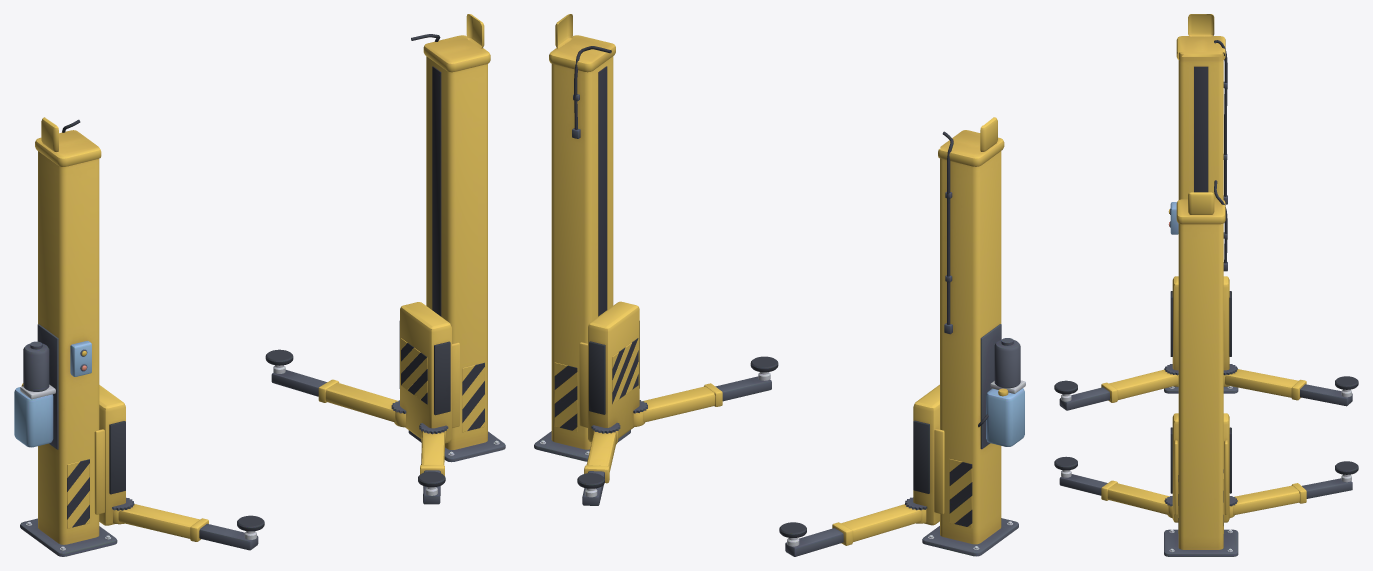
File: car-lift.glb
The picture shows the model from 3 angles, left to right: view 1: azimuth 30°, elevation 25°; view 2: azimuth 150°, elevation 25°; view 3: azimuth 270°, elevation 25°; orthographic projection. The views are drawn at different scales.
Parts seen in each view (by area): view 1: car-lift_body, car-lift_carriage; view 2: car-lift_body, car-lift_carriage; view 3: car-lift_body, car-lift_carriage.
Boxes of the visible parts, x1,y1,x2,y2 form: car-lift_body: (14, 14, 505, 556); car-lift_carriage: (94, 302, 459, 550); car-lift_body: (534, 14, 1025, 556); car-lift_carriage: (577, 301, 944, 556); car-lift_body: (1164, 14, 1238, 556); car-lift_carriage: (1054, 276, 1358, 522).
Bounding box in the file's own units: 3.5 × 3 × 2.3.
2 materials, 2 textured.
